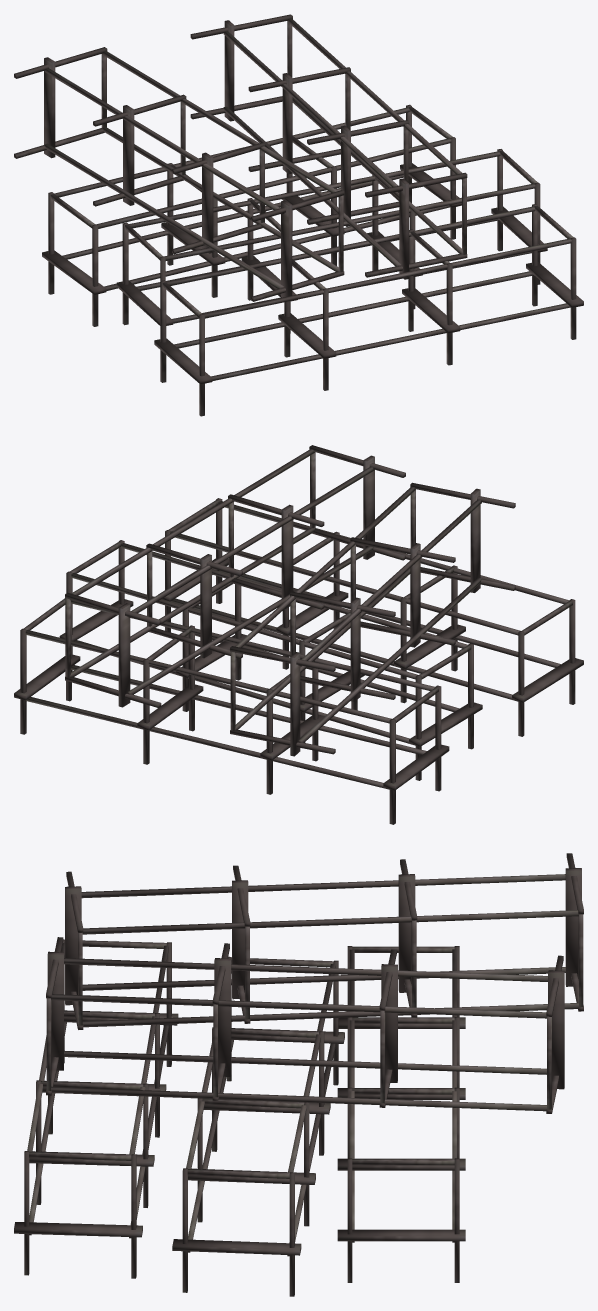
The model's file is Iron_Rode_2.glb.
The picture shows the model from 3 angles, top to bottom: view 1: azimuth 30°, elevation 25°; view 2: azimuth 150°, elevation 25°; view 3: azimuth 270°, elevation 25°; orthographic projection. The views are drawn at different scales.
Parts seen in each view (by area): view 1: Iron_Rode_2; view 2: Iron_Rode_2; view 3: Iron_Rode_2.
Part boxes in pixels (box(x1,y1,x2,y2)): Iron_Rode_2: box(14, 14, 583, 416); Iron_Rode_2: box(14, 445, 583, 824); Iron_Rode_2: box(14, 853, 583, 1296).
Bounding box in the file's own units: 6.41 × 2.83 × 6.42.
Materials: 1 (1 with a texture image).
